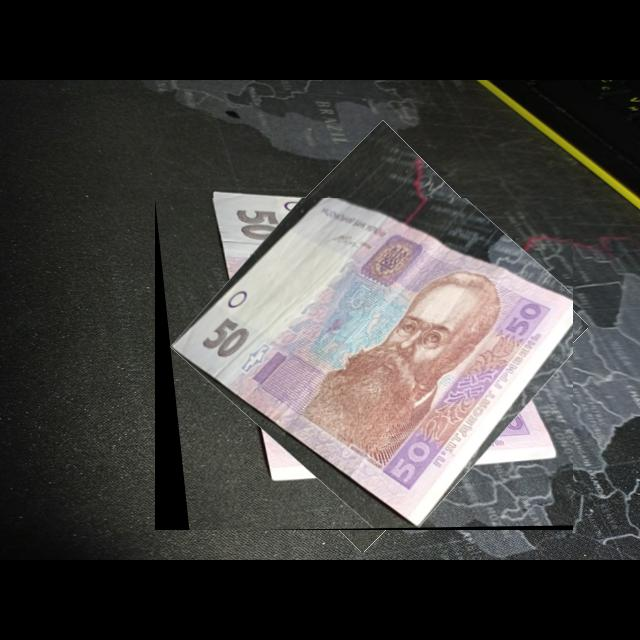50uah: (169, 198, 574, 529)
